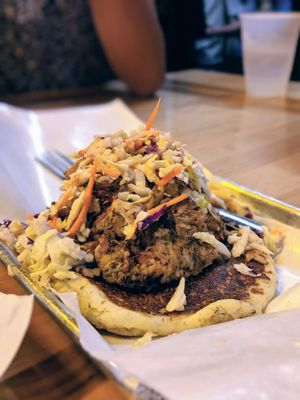burger: (1, 224, 175, 400), (1, 102, 75, 180)
pizza: (238, 11, 300, 100)
soup: (7, 127, 282, 345)
